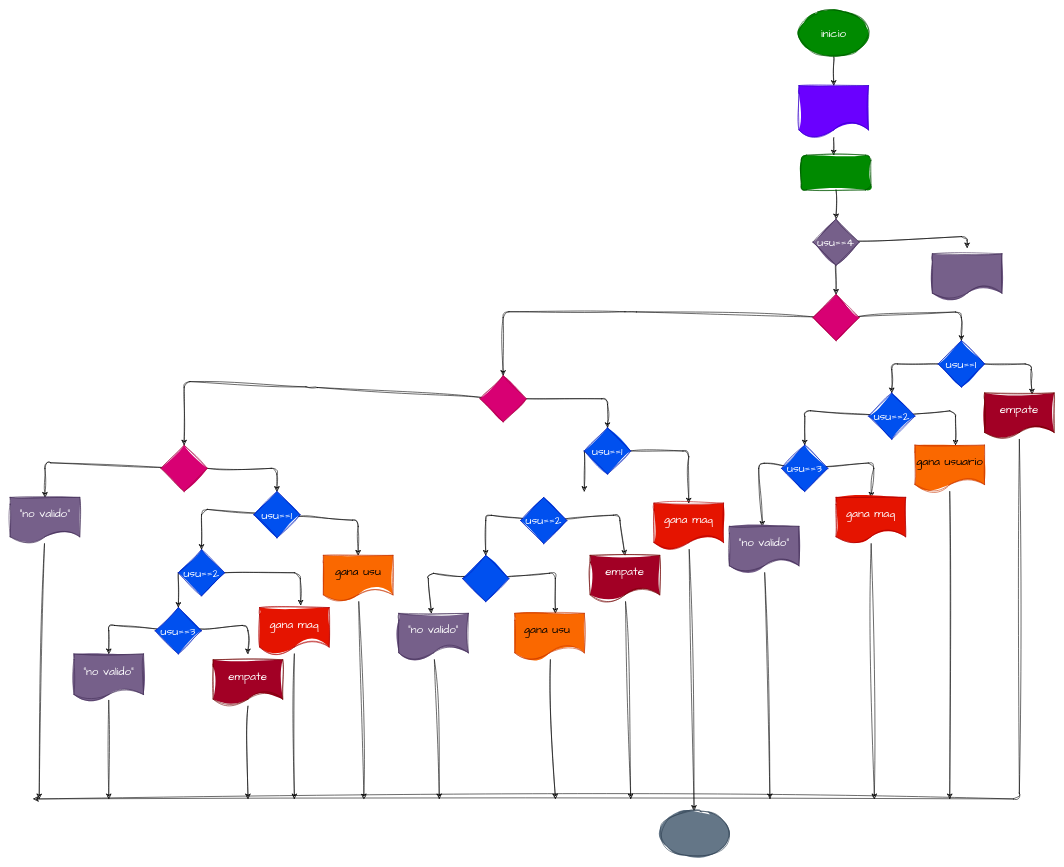
This 1064x867 diagram has some shape labels left out. The centre of each missing label's shape, as x and y in pixels:
"no vaido": pixel 967 276
1=Piedra 2=Papel 3=tijera: pixel 833 111
fin: pixel 694 833
Maq=1,2,3: pixel 836 172
Maq==1: pixel 835 317
maq==2: pixel 502 398
maq==3: pixel 183 468
usu=3: pixel 485 578
